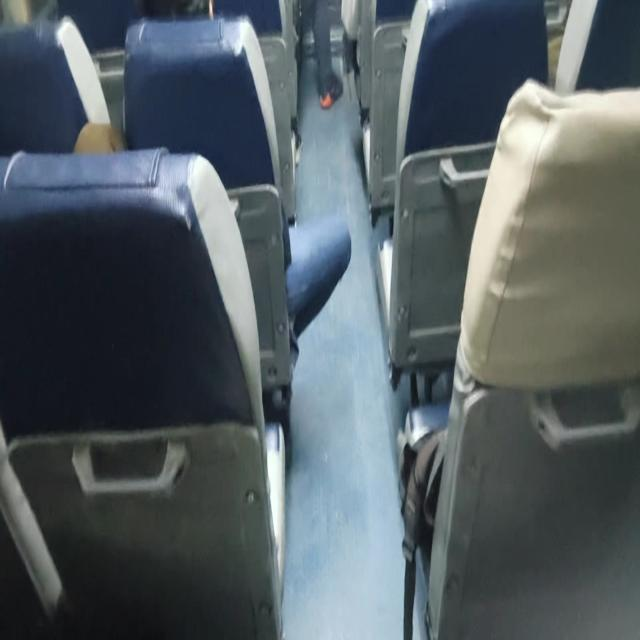person: (138, 0, 218, 31)
